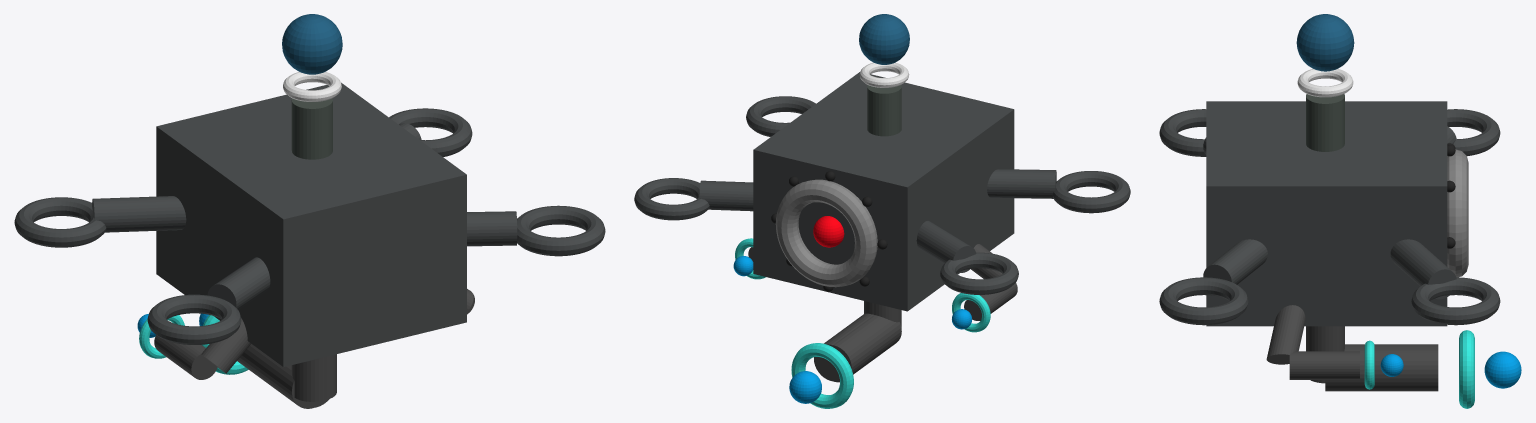
File: Drone.fbx
3 views of the same model, side by side, from view 1: azimuth 30°, elevation 25°; view 2: azimuth 150°, elevation 25°; view 3: azimuth 270°, elevation 25° (orthographic). The views are drawn at different scales.
Parts seen in each view (by area): view 1: Cylinder; view 2: Cylinder; view 3: Cylinder.
Part boxes in pixels (x1=…): Cylinder: x1=14, y1=14, x2=605, y2=408; Cylinder: x1=634, y1=14, x2=1130, y2=408; Cylinder: x1=1159, y1=14, x2=1521, y2=408.
Bounding box in the file's own units: 400 × 353 × 298.
